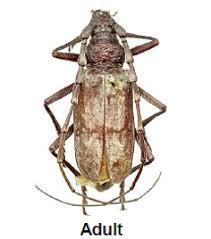Insects: (34, 3, 170, 217)
